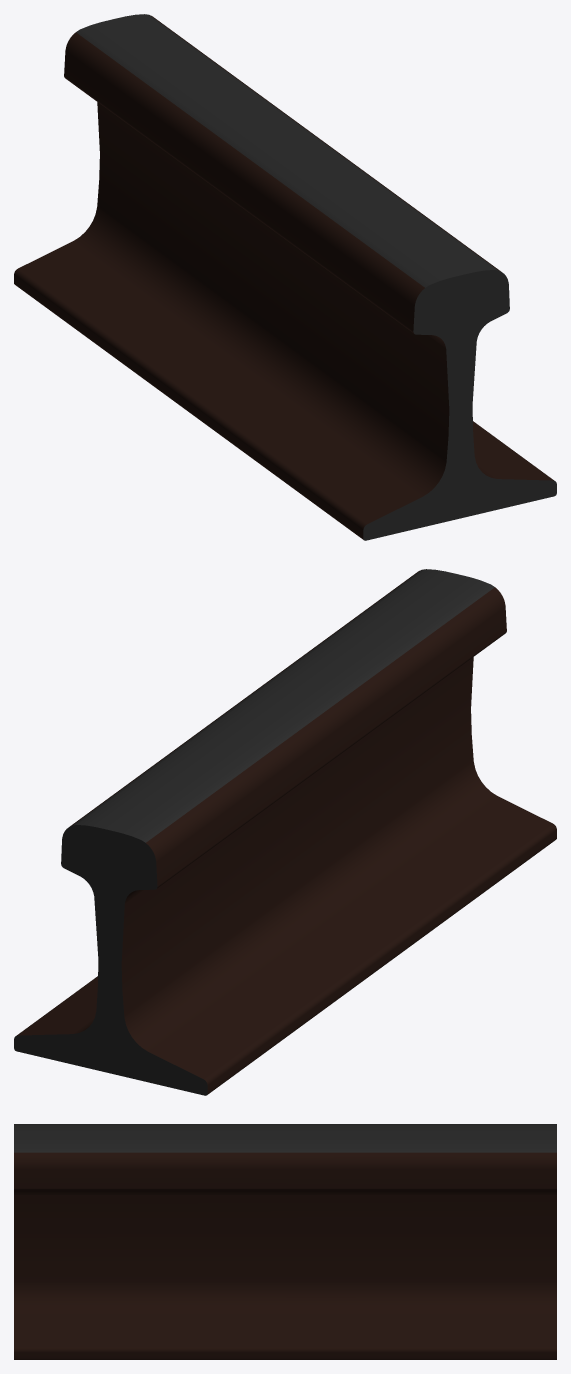
File: rail.FBX
3 renders of one model, top to bottom at view 1: azimuth 30°, elevation 25°; view 2: azimuth 150°, elevation 25°; view 3: azimuth 270°, elevation 25°, orthographic. The views are drawn at different scales.
Visible parts, largest first — view 1: ??? ?? 3D001; view 2: ??? ?? 3D001; view 3: ??? ?? 3D001.
Part boxes in pixels (<box>): ??? ?? 3D001: <box>14,14,556,540</box>; ??? ?? 3D001: <box>14,569,556,1095</box>; ??? ?? 3D001: <box>14,1124,556,1359</box>.
Size of the model in its own units: 5.89 by 7.09 by 18.4.
